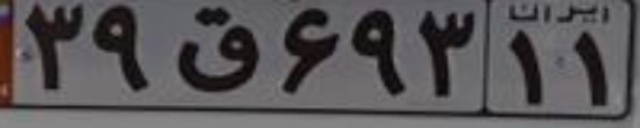1: (568, 31, 608, 106), (506, 29, 543, 106)
3: (415, 9, 478, 98), (25, 4, 84, 90)
6: (280, 7, 339, 97)
9: (90, 6, 148, 91), (349, 10, 405, 96)
ghaf: (177, 5, 259, 92)
